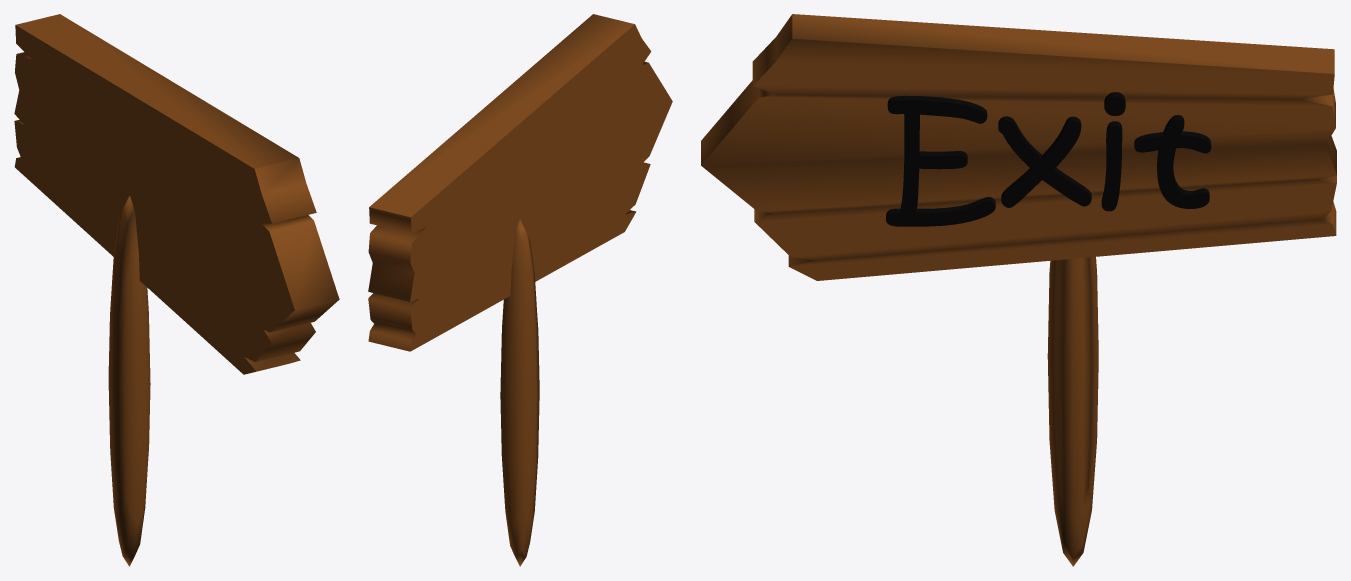
Rendered from Sign Exit.fbx.
3 views of the same model, side by side, from view 1: azimuth 30°, elevation 25°; view 2: azimuth 150°, elevation 25°; view 3: azimuth 270°, elevation 25° (orthographic). The views are drawn at different scales.
Parts seen in each view (by area): view 1: ExitSign; view 2: ExitSign; view 3: ExitSign.
Part boxes in pixels (box(x1,y1,x2,y2)): ExitSign: box(14, 14, 339, 566); ExitSign: box(368, 14, 672, 566); ExitSign: box(701, 14, 1336, 566).
Bounding box in the file's own units: 0.7887 × 5.18 × 5.39.
